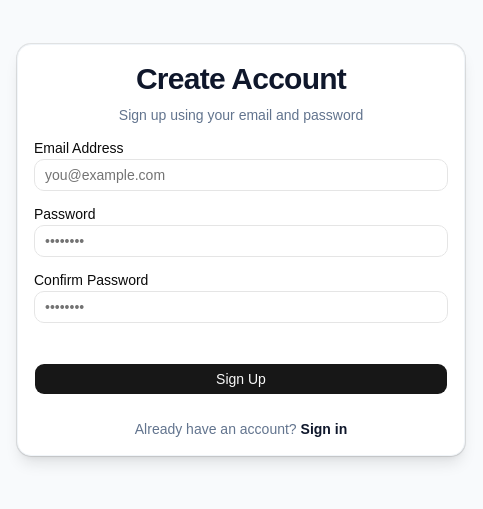
Test: Signup Component › should display an error if password is under 6 characters
Type "vigbi@xyz.com" into the field labelled "Email Address".
click(241, 175); type("vigbi@xyz.com")  # box left=34, top=159, right=448, bottom=191
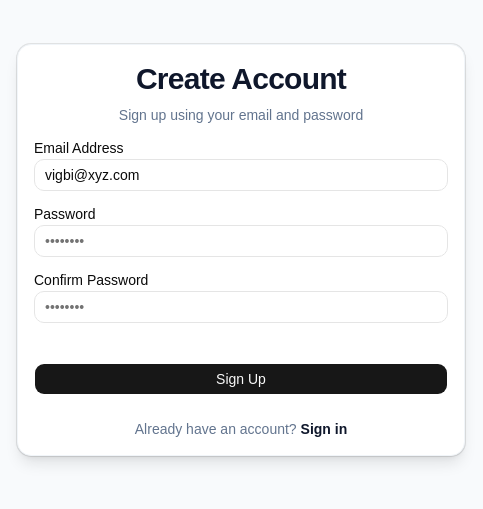
Type "12345" into the password field labelled "Password".
click(241, 241); type("12345")  # box left=34, top=225, right=448, bottom=257
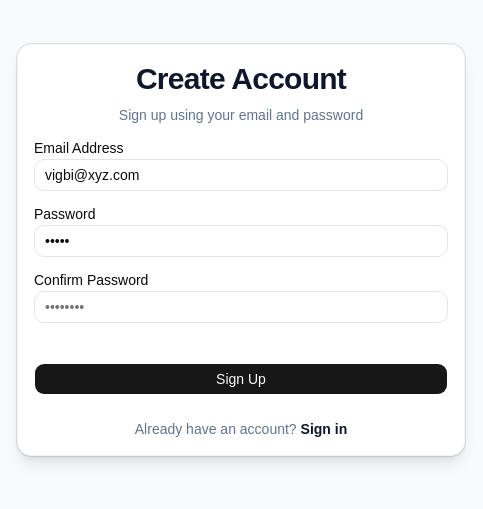
Type "12345" into the password field labelled "Confirm Password".
click(241, 307); type("12345")  # box left=34, top=291, right=448, bottom=323
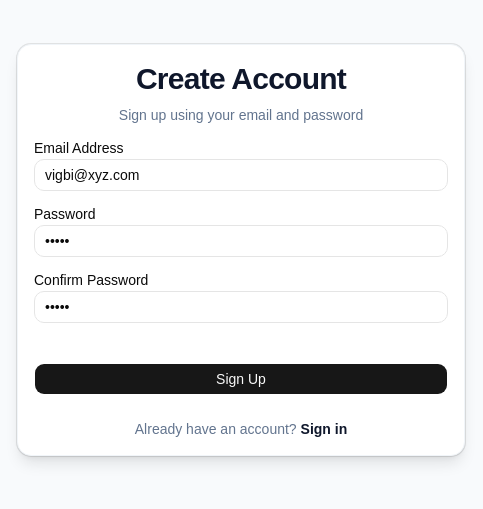
Submit the form from the button "Sign Up", box left=34, top=363, right=448, bottom=395
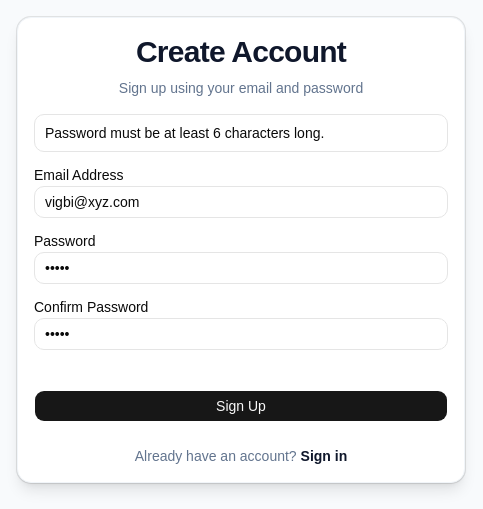
Now the message shows "at least 6 characters", box left=45, top=125, right=324, bottom=141
